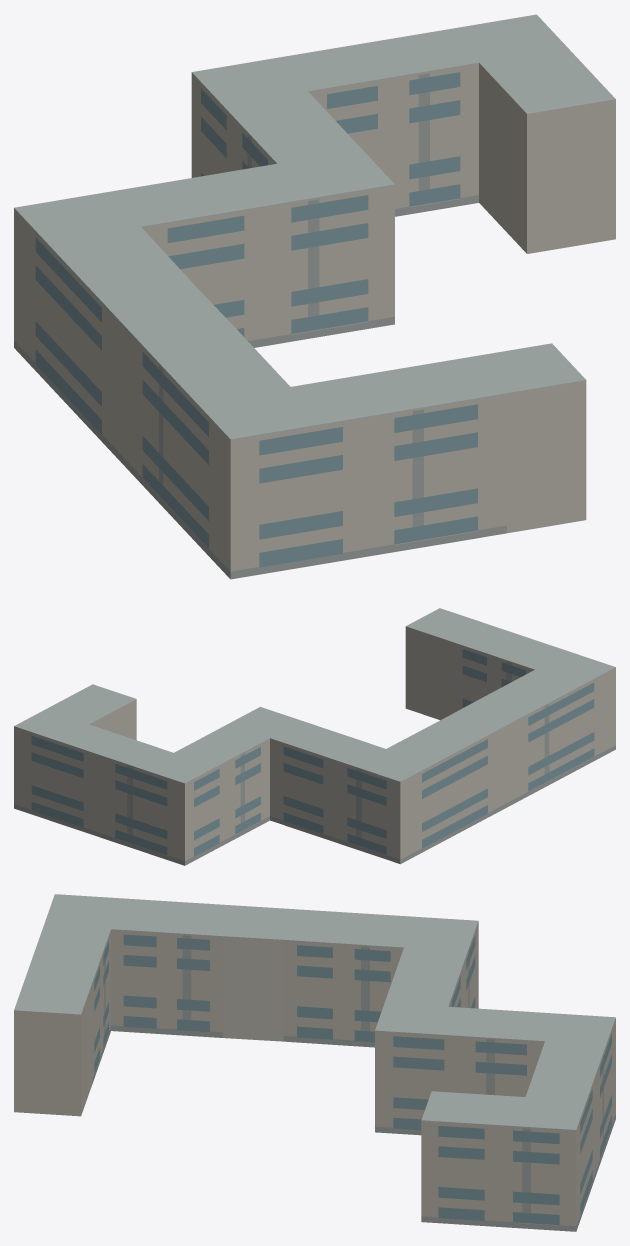
Rendered from residential-0e9ac031-088e-48b8-b2b0-212cd2ac4f6a.glb.
3 views of the same model, one above another, from view 1: azimuth 30°, elevation 25°; view 2: azimuth 150°, elevation 25°; view 3: azimuth 270°, elevation 25° (orthographic). The views are drawn at different scales.
Visible parts, largest first — view 1: residential-0e9ac031-088e-48b8-b2b0-212cd2ac4f6a.tmp; view 2: residential-0e9ac031-088e-48b8-b2b0-212cd2ac4f6a.tmp; view 3: residential-0e9ac031-088e-48b8-b2b0-212cd2ac4f6a.tmp.
Boxes of the visible parts, x1,y1,x2,y2 form: residential-0e9ac031-088e-48b8-b2b0-212cd2ac4f6a.tmp: [14, 14, 615, 579]; residential-0e9ac031-088e-48b8-b2b0-212cd2ac4f6a.tmp: [14, 608, 615, 865]; residential-0e9ac031-088e-48b8-b2b0-212cd2ac4f6a.tmp: [14, 894, 615, 1231].
Bounding box in the file's own units: 75.75 × 15.25 × 81.69.
